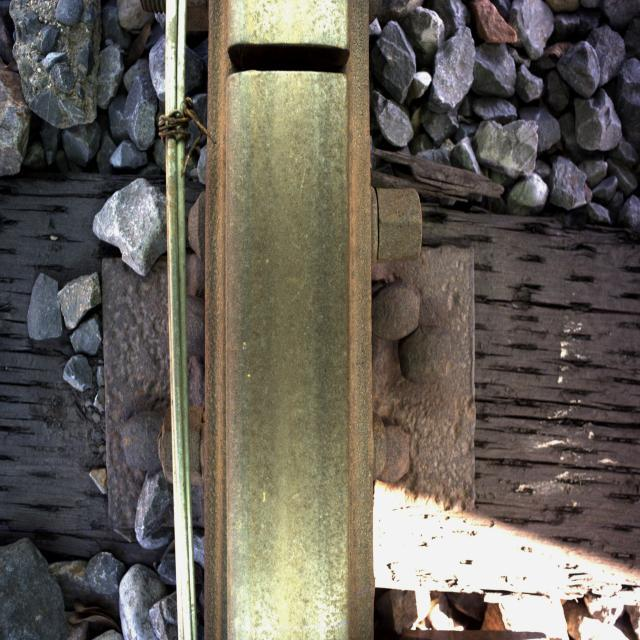spalling: (198, 8, 382, 122)
